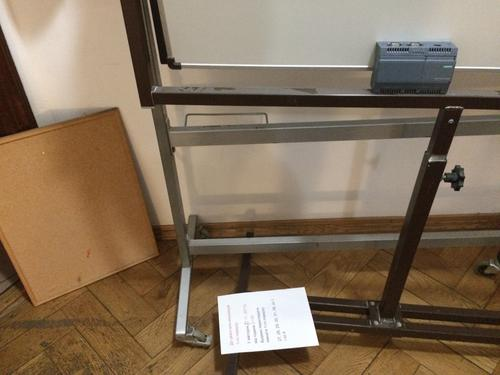iot2000: (369, 40, 459, 95)
